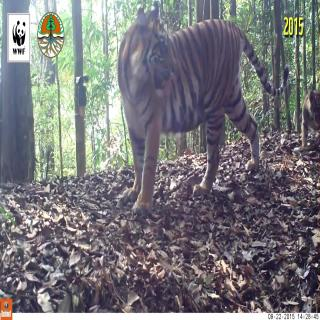Tiger: (108, 2, 290, 216)
